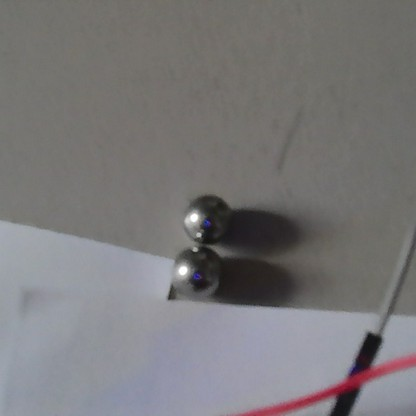ironball: (168, 244, 224, 298), (182, 194, 232, 243)
